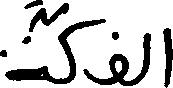X: (0, 0, 46, 85), (59, 0, 102, 87), (110, 27, 127, 87), (164, 23, 172, 87), (142, 28, 149, 83)
